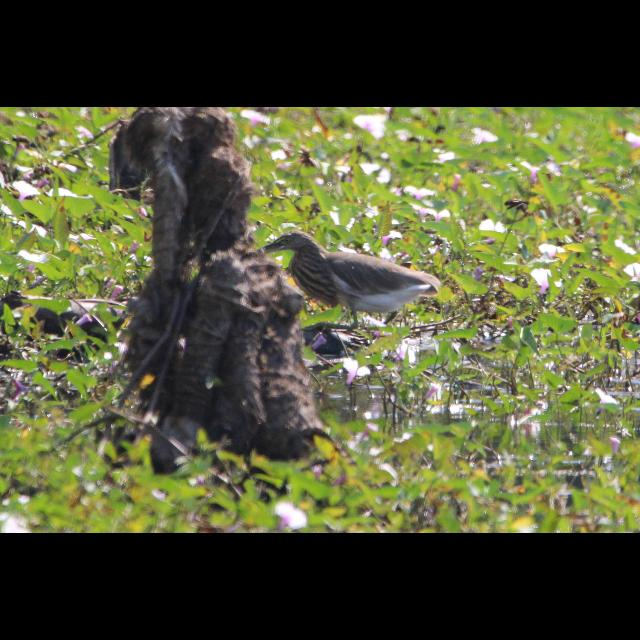heron: (258, 219, 440, 335)
